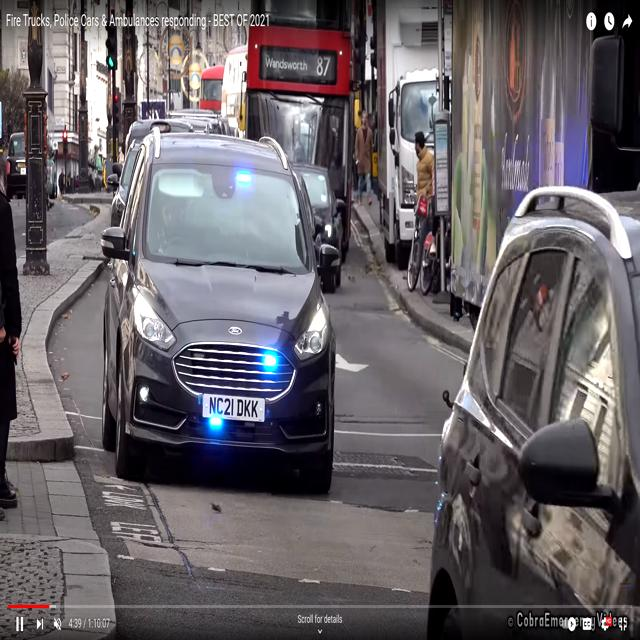emergency-vehicles: (86, 116, 344, 508)
